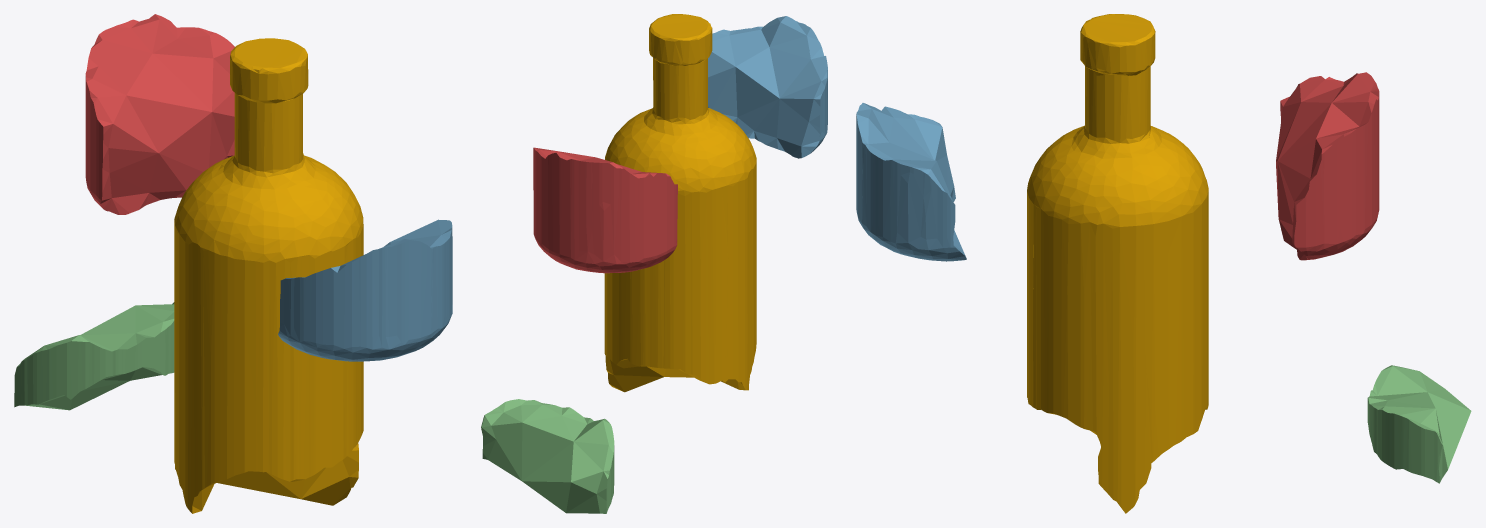
The model's file is mode_4_4pcs_transformed.glb.
The picture shows the model from 3 angles, left to right: view 1: azimuth 30°, elevation 25°; view 2: azimuth 150°, elevation 25°; view 3: azimuth 270°, elevation 25°; orthographic projection. The views are drawn at different scales.
Visible parts, largest first — view 1: piece_0.obj, piece_1.obj, piece_2.obj, piece_3.obj; view 2: piece_0.obj, piece_1.obj, piece_2.obj, piece_3.obj; view 3: piece_0.obj, piece_1.obj, piece_2.obj, piece_3.obj.
Boxes of the visible parts, x1=… form: piece_0.obj: x1=174, y1=38, x2=363, y2=513; piece_1.obj: x1=85, y1=14, x2=234, y2=214; piece_2.obj: x1=278, y1=219, x2=452, y2=361; piece_3.obj: x1=14, y1=302, x2=174, y2=410; piece_0.obj: x1=604, y1=14, x2=756, y2=392; piece_1.obj: x1=533, y1=147, x2=677, y2=273; piece_2.obj: x1=708, y1=16, x2=827, y2=158; piece_3.obj: x1=481, y1=399, x2=614, y2=513; piece_0.obj: x1=1027, y1=14, x2=1208, y2=513; piece_1.obj: x1=1276, y1=72, x2=1379, y2=260; piece_2.obj: x1=856, y1=103, x2=966, y2=261; piece_3.obj: x1=1367, y1=365, x2=1471, y2=483.
Size of the model in its own units: 0.3203 by 0.8859 by 1.08.
